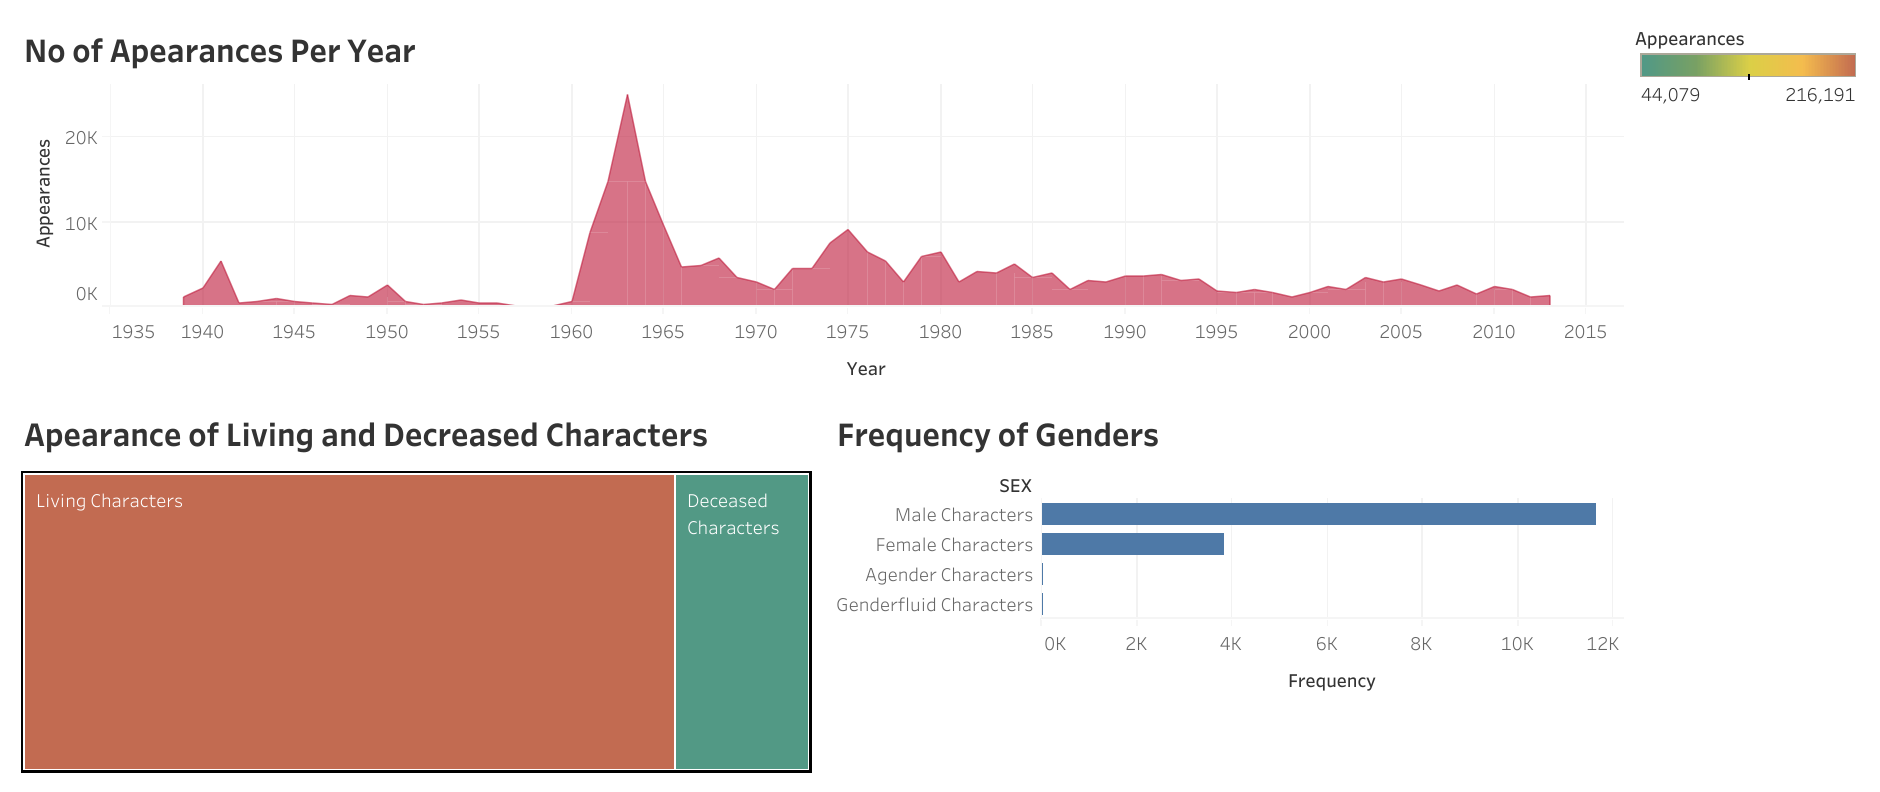

Layout of this report page (visuals, bound fields, positions):
{"tool":"tableau","page":{"name":"Dashboard 1","canvas":[1000,1000],"units":"permille","ordinal":0},"visuals":[{"type":"worksheet","title":"Sheet 1","mark":"Area","rows":["APPEARANCES"],"cols":["Year"],"box":[4.2,9.8,906.5,490.2]},{"type":"legend","title":"Sheet 3","param":"[federated.1o3fql41tr7xpn18j1gyg04vwwmb].[sum:APPEARANCES:qk]","box":[910.7,9.8,85,99]},{"type":"worksheet","title":"Sheet 3","mark":"Automatic","box":[4.2,500,455.8,490.2]},{"type":"worksheet","title":"Sheet 2","mark":"Automatic","rows":["SEX"],"cols":["marvel-wikia-data.csv_DD12E3E82D064EC5AB2E18F25353E21C"],"box":[460,500,450.7,490.2]}]}

Visuals, with their boxes on the dashboard's canvas, which has no fixed pixel size, in thousandths of its width and height (x1, y1, x2, y2). These are canvas units, not pixel positions in the 1880x792 screenshot, which may show the page scaled, cropped or inside an application window:
"Sheet 1" worksheet (Area marks): 4, 10, 911, 500
"Sheet 3" legend: 911, 10, 996, 109
"Sheet 3" worksheet: 4, 500, 460, 990
"Sheet 2" worksheet: 460, 500, 911, 990
